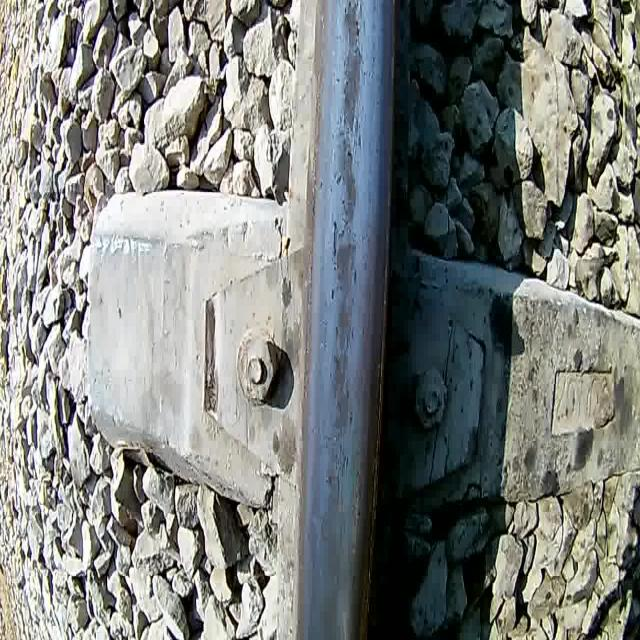Squats: (329, 130, 363, 230), (335, 42, 366, 133), (326, 350, 357, 430), (330, 238, 360, 298), (337, 0, 362, 53), (332, 298, 356, 350)
